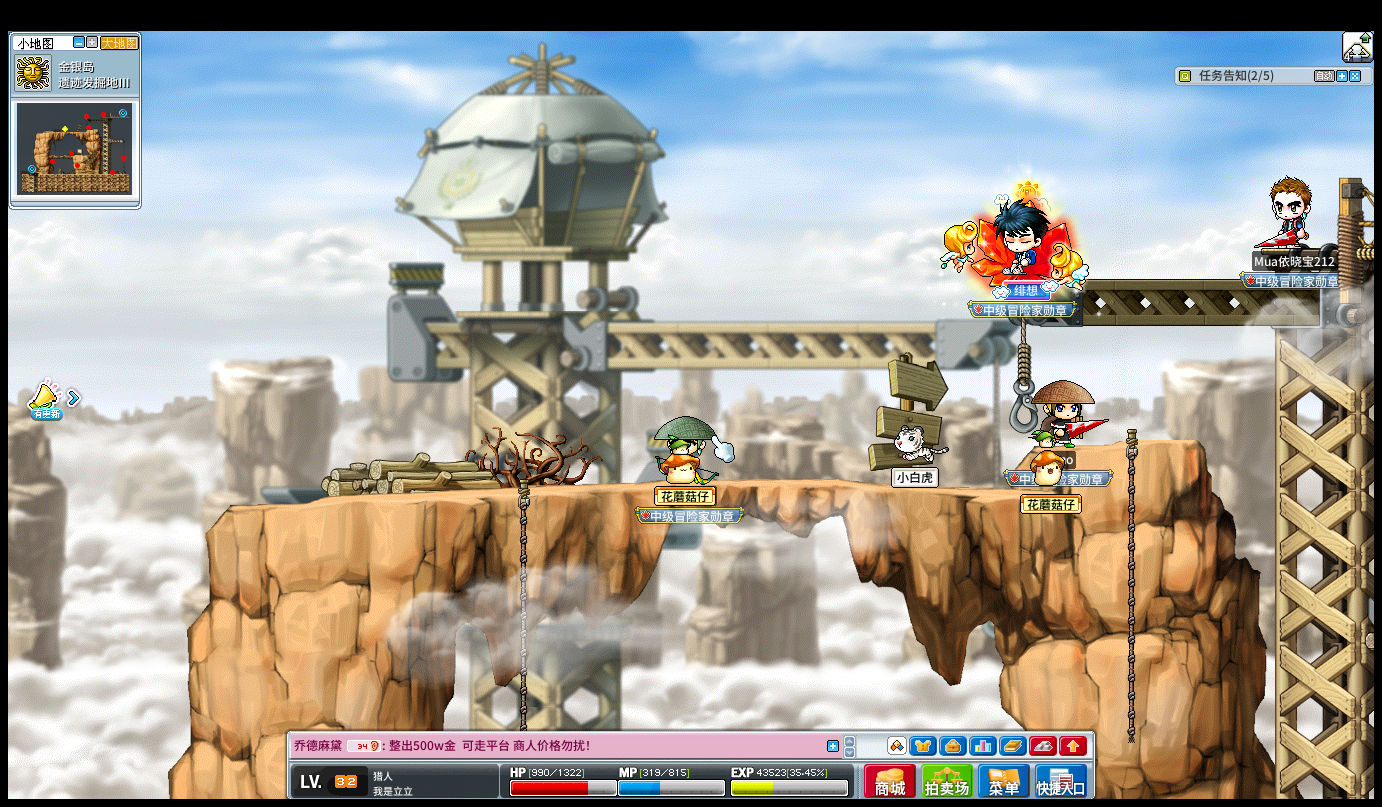floor: (198, 476, 1137, 497), (1059, 434, 1200, 447)
rope: (1123, 429, 1139, 765), (514, 472, 527, 686), (517, 476, 529, 675)
